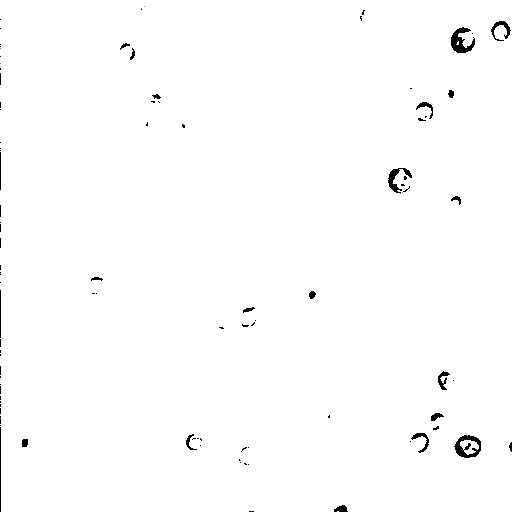micro-algae: (152, 0, 264, 65), (359, 79, 425, 139), (417, 455, 480, 511), (18, 246, 71, 297), (335, 59, 381, 109), (366, 5, 409, 49), (485, 417, 511, 467), (432, 73, 465, 108), (383, 137, 415, 170), (131, 0, 166, 29), (11, 423, 40, 457), (448, 25, 478, 55), (123, 109, 155, 137), (385, 166, 415, 195), (119, 337, 149, 366), (453, 434, 483, 461), (297, 281, 325, 308), (357, 4, 383, 31), (235, 304, 259, 329), (237, 442, 261, 467), (178, 112, 201, 136), (396, 77, 420, 100), (52, 295, 75, 318), (406, 431, 431, 452), (491, 19, 511, 41), (415, 101, 434, 121), (119, 41, 137, 62), (427, 411, 445, 432), (87, 276, 106, 295), (239, 499, 269, 511), (438, 370, 455, 391), (187, 433, 203, 451), (328, 500, 350, 512), (506, 439, 511, 455)
